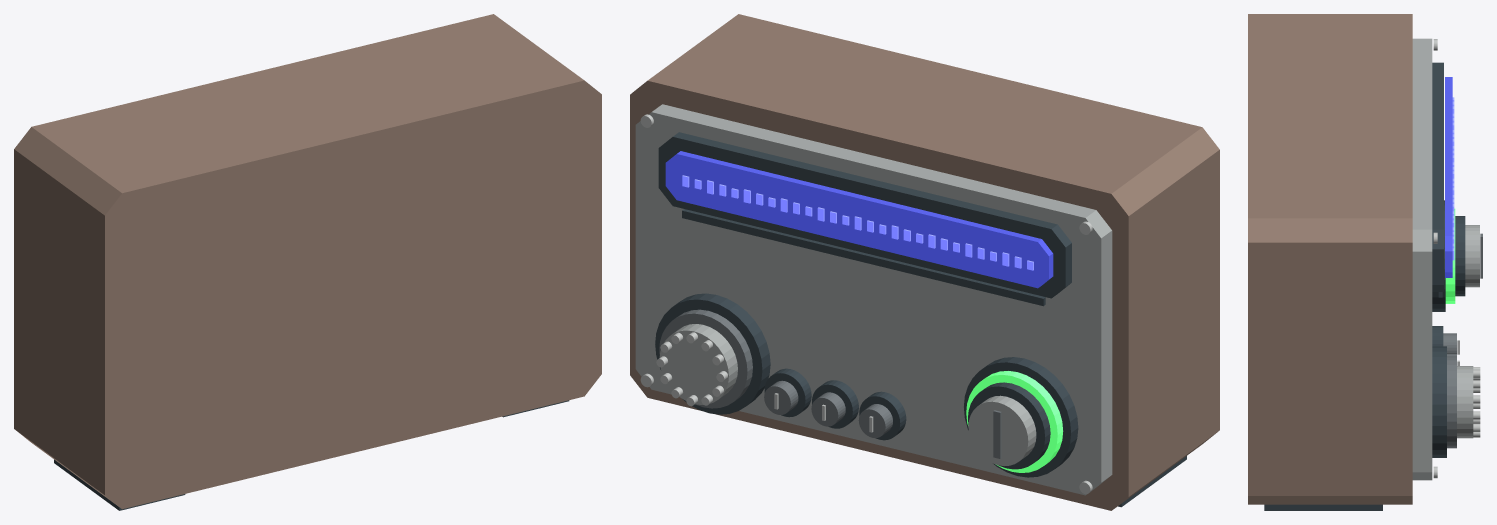
The model's file is KONSOL_CIHAZI_12_ADAY.glb.
The picture shows the model from 3 angles, left to right: view 1: azimuth 30°, elevation 25°; view 2: azimuth 150°, elevation 25°; view 3: azimuth 270°, elevation 25°; orthographic projection. The views are drawn at different scales.
Visible parts, largest first — view 1: Outer_case; view 2: Outer_case, Main_front_plate, Blue_display_glass, Blue_display_black_bezel, LEFT_ROTARY_CONTROL, Blue_display_lower_trim, Left_dial_black_mount, RIGHT_ROTARY_CONTROL, Right_control_outer, Left_dial_ring, Right_control_green_ring, Right_control_dark_inset (+6 smaller); view 3: Outer_case, Main_front_plate, Blue_display_black_bezel, Left_dial_black_mount, Blue_display_glass, LEFT_ROTARY_CONTROL, RIGHT_ROTARY_CONTROL, Left_dial_ring, Right_control_dark_inset, Lower_rubber_feet_1.22, Right_control_green_ring, Right_control_outer.
Part boxes in pixels (bbox=[...]): Outer_case: bbox=[14, 14, 601, 509]; Outer_case: bbox=[630, 14, 1219, 510]; Main_front_plate: bbox=[635, 104, 1112, 495]; Blue_display_glass: bbox=[665, 151, 1053, 288]; Blue_display_black_bezel: bbox=[658, 132, 1071, 298]; LEFT_ROTARY_CONTROL: bbox=[659, 324, 737, 404]; Blue_display_lower_trim: bbox=[682, 209, 1045, 306]; Left_dial_black_mount: bbox=[655, 293, 770, 414]; RIGHT_ROTARY_CONTROL: bbox=[968, 395, 1036, 465]; Right_control_outer: bbox=[964, 357, 1078, 477]; Left_dial_ring: bbox=[659, 309, 752, 408]; Right_control_green_ring: bbox=[966, 371, 1063, 472]; Right_control_dark_inset: bbox=[968, 382, 1050, 469]; Outer_case: bbox=[1248, 14, 1412, 504]; Main_front_plate: bbox=[1412, 38, 1432, 480]; Blue_display_black_bezel: bbox=[1432, 62, 1443, 291]; Left_dial_black_mount: bbox=[1432, 346, 1446, 457]; Blue_display_glass: bbox=[1445, 77, 1452, 277]; LEFT_ROTARY_CONTROL: bbox=[1457, 366, 1473, 438]; RIGHT_ROTARY_CONTROL: bbox=[1465, 225, 1479, 287]; Left_dial_ring: bbox=[1447, 356, 1456, 448]; Right_control_dark_inset: bbox=[1455, 216, 1465, 296]; Lower_rubber_feet_1.22: bbox=[1264, 504, 1382, 510]; Right_control_green_ring: bbox=[1445, 208, 1455, 303]; Right_control_outer: bbox=[1432, 200, 1445, 311].
Bounding box in the file's own units: 3.16 × 1.98 × 1.43.
